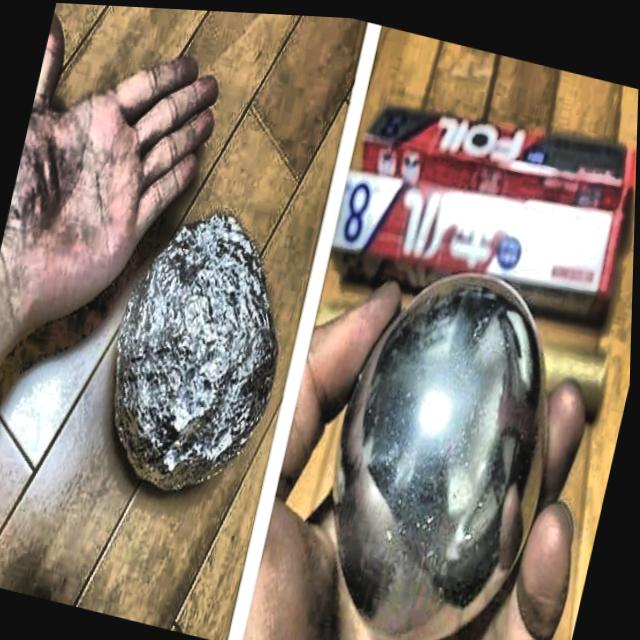Foil: (63, 166, 321, 544)
